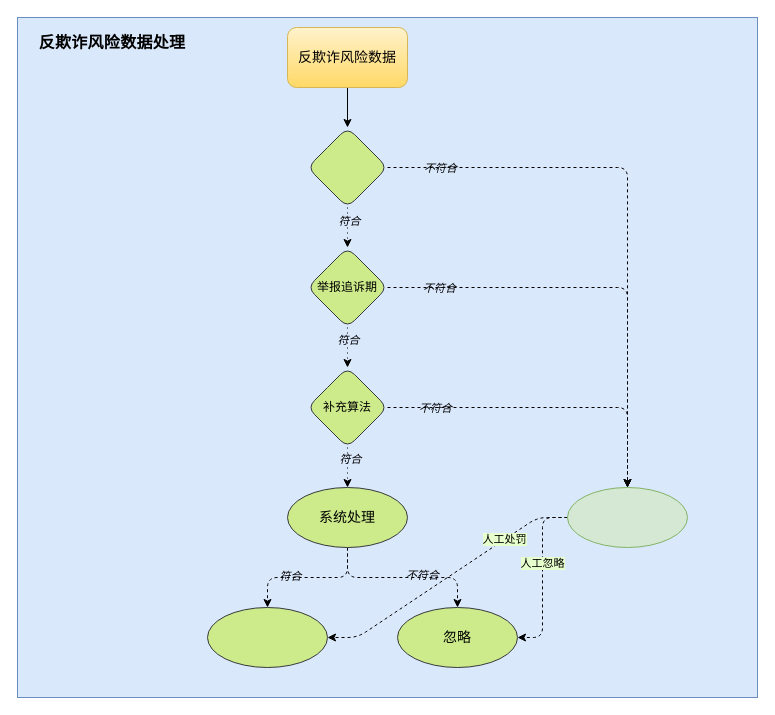
Image size: 775x715. Some labels were removed from this diagram. The centre of each missing label's shape, as x and y in pixels:
举报双方基础信息: point (347, 167)
处罚: point (267, 637)
转人工处理: point (627, 517)
